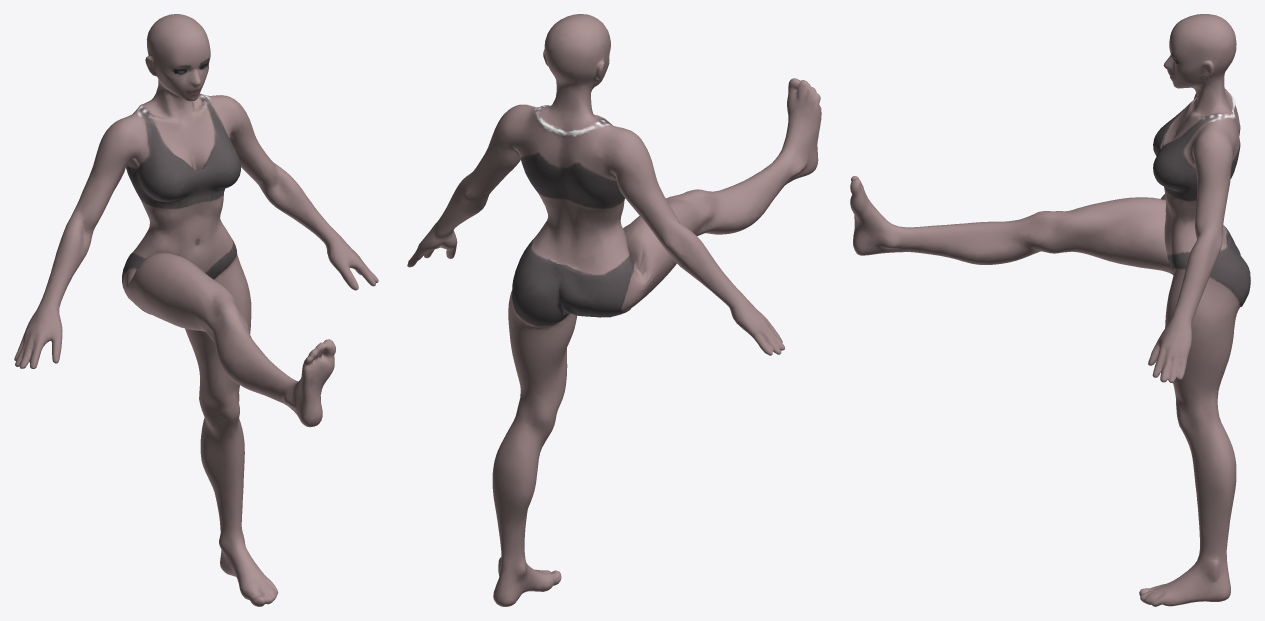
The model's file is regional-ThighL-90.glb.
3 views of the same model, side by side, from view 1: azimuth 30°, elevation 25°; view 2: azimuth 150°, elevation 25°; view 3: azimuth 270°, elevation 25° (orthographic). The views are drawn at different scales.
Parts seen in each view (by area): view 1: regional-ThighL-90; view 2: regional-ThighL-90; view 3: regional-ThighL-90.
Boxes of the visible parts, x1,y1,x2,y2 form: regional-ThighL-90: [14, 14, 378, 606]; regional-ThighL-90: [407, 14, 821, 606]; regional-ThighL-90: [850, 14, 1250, 606].
Bounding box in the file's own units: 0.6508 × 1 × 0.6521.
1 material, 1 textured.
